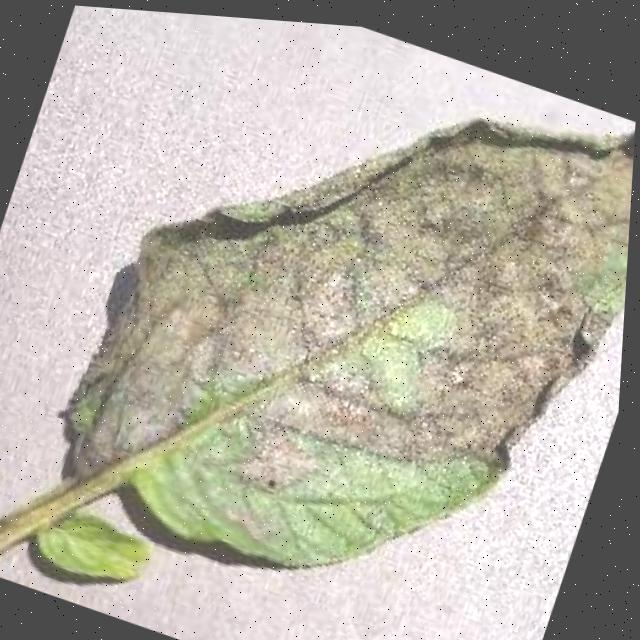Late_blight: (24, 5, 640, 640)
